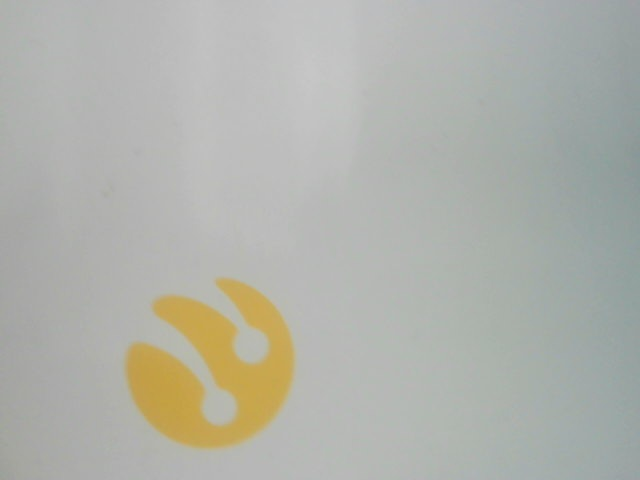AV_H3600Yellow: (113, 273, 304, 448)
